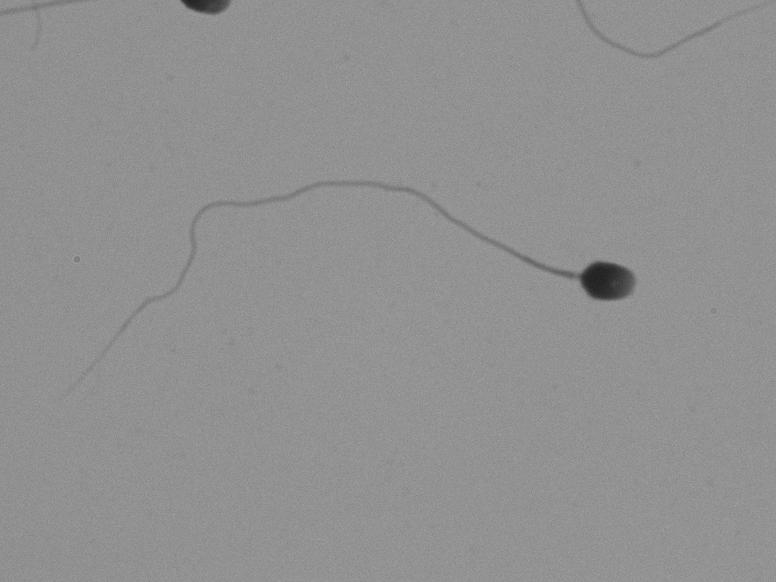Normal: (46, 147, 707, 411)
